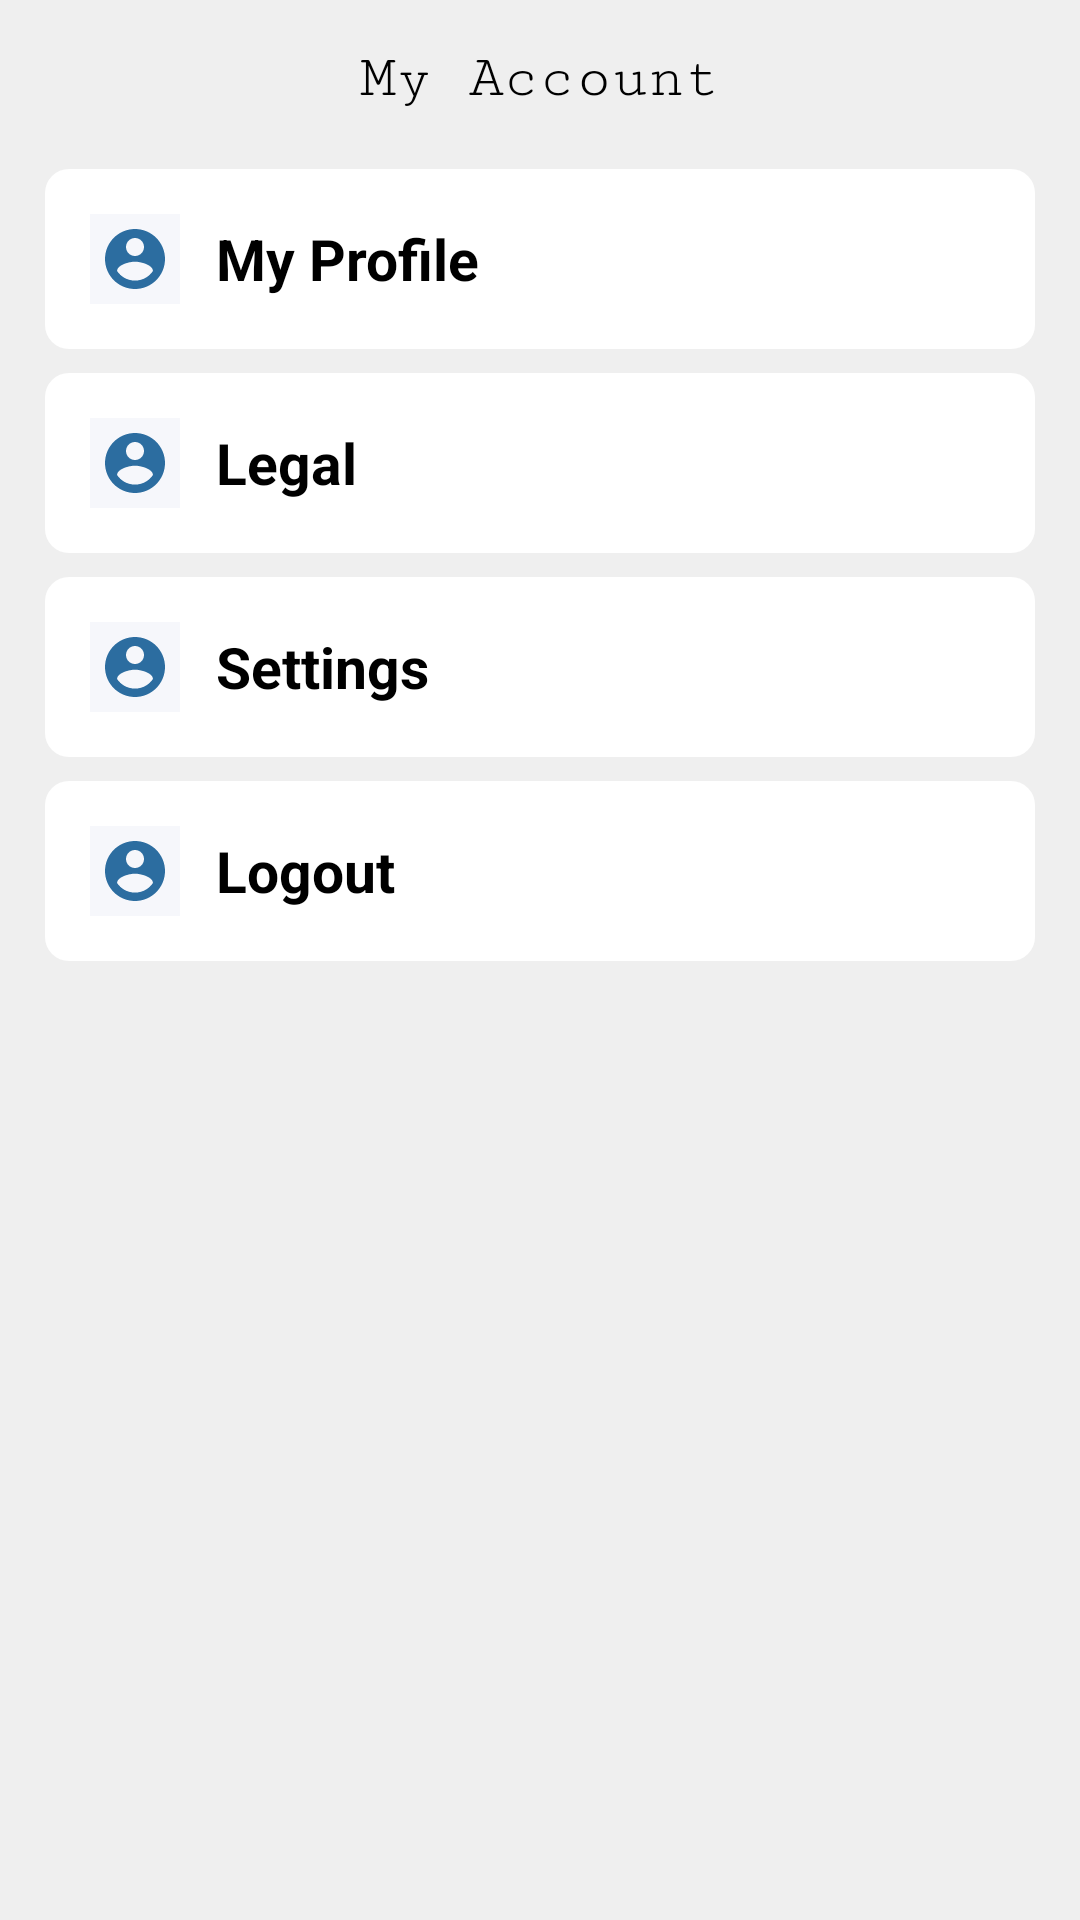

Screen size 1080×1920. Icon name, then its box in pixels as (x1, y1, x2, y2):
account circle: (105, 229, 165, 289), (105, 433, 165, 493), (105, 637, 165, 697), (105, 841, 165, 901)
